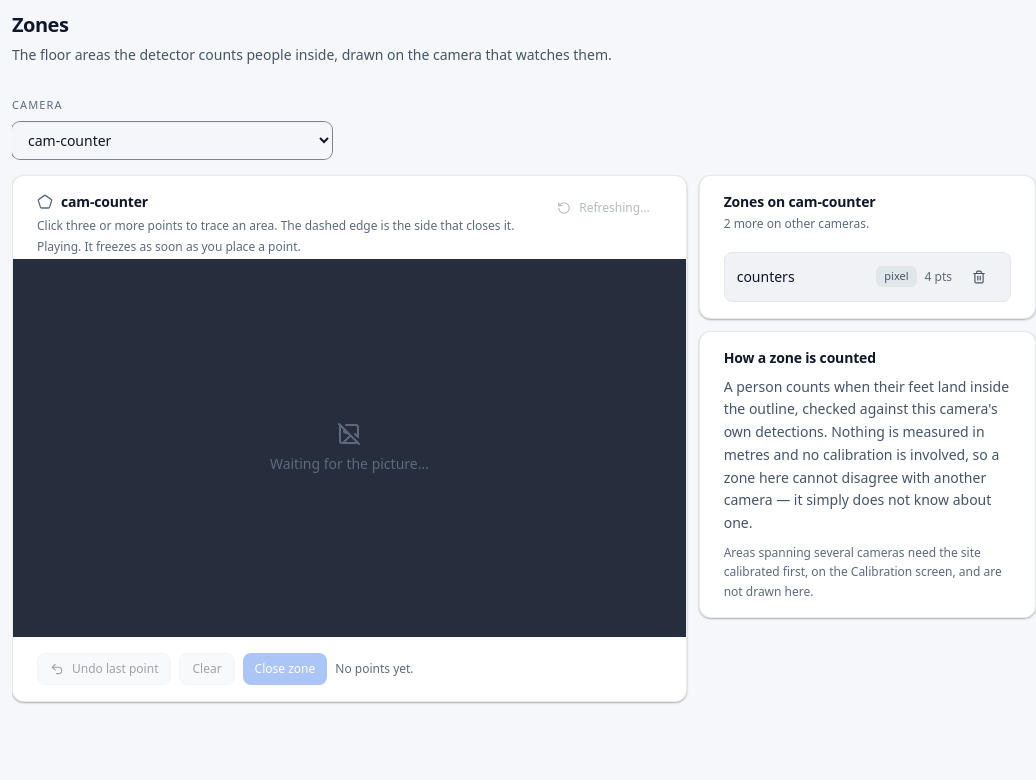
Scenario: Zones › follows the camera picker
Expected: the text "counters" is shown, [737,266,795,286]
Select "cam-lobby" in the dropdown labelled "Camera": point(172, 140) [12,122,332,158]
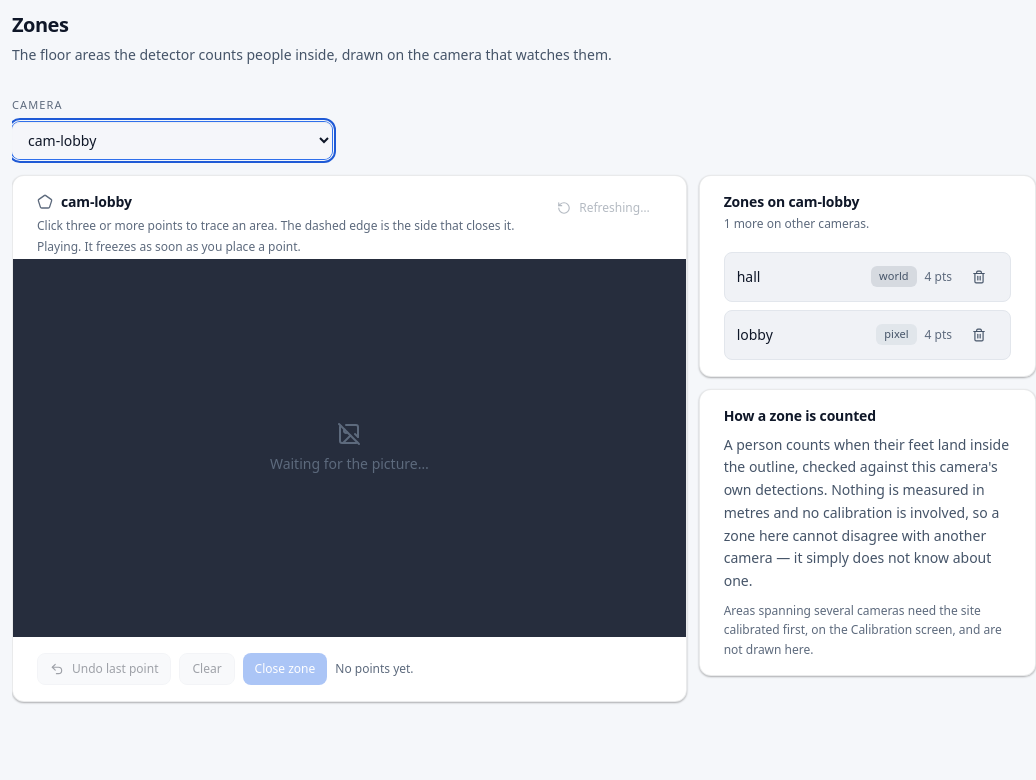
Result: the text "lobby" is shown at [737,324,773,344]
Result: the text "counters" is gone
Result: the text "hall" is shown at [737,266,760,286]
